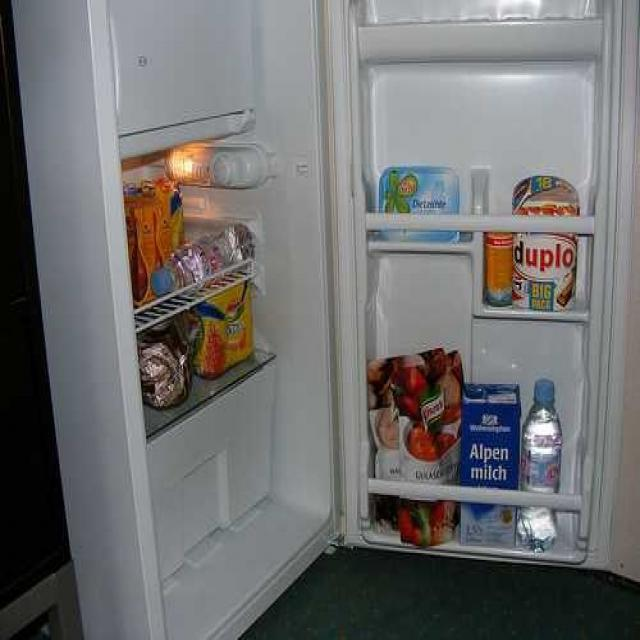refrigerator: (27, 1, 588, 563)
